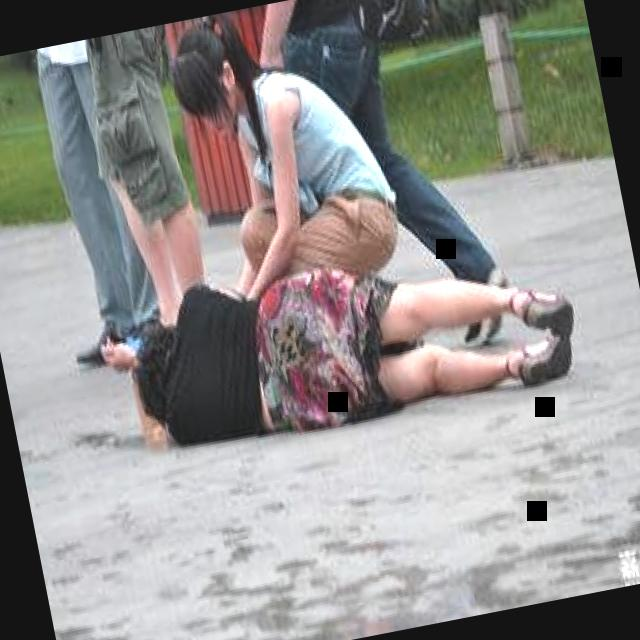Fall-Detected: (80, 201, 590, 474)
